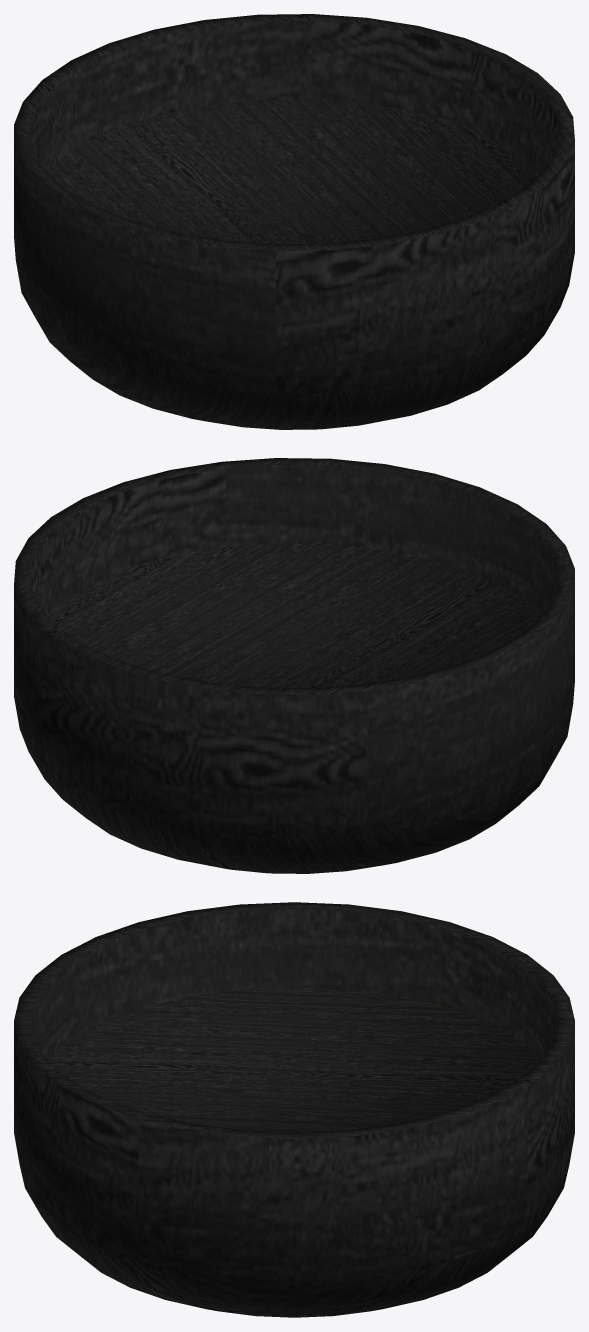
Rendered from DEC BOWL.fbx.
3 views of the same model, one above another, from view 1: azimuth 30°, elevation 25°; view 2: azimuth 150°, elevation 25°; view 3: azimuth 270°, elevation 25° (orthographic).
Visible parts, largest first — view 1: DEC BOWL; view 2: DEC BOWL; view 3: DEC BOWL.
Boxes of the visible parts, x1,y1,x2,y2 form: DEC BOWL: (14,14,574,429); DEC BOWL: (14,458,574,873); DEC BOWL: (14,902,574,1317).
Size of the model in its own units: 0.2674 by 0.2674 by 0.1146.
